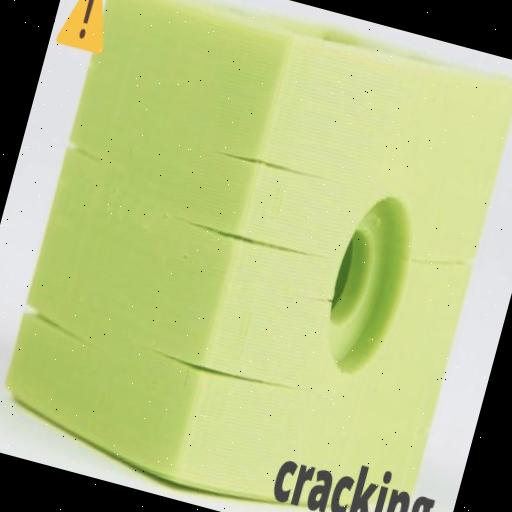cracks: (128, 322, 314, 424), (170, 196, 333, 284), (194, 124, 346, 206), (0, 278, 116, 371), (397, 226, 494, 306), (42, 115, 129, 194), (291, 274, 348, 322)
